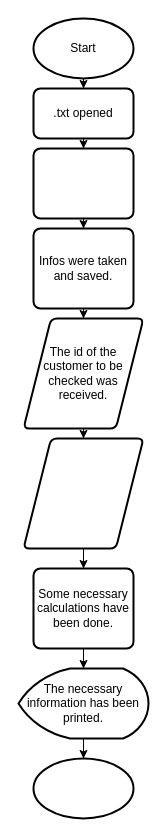
The diagram is 166 pixels wide and 836 high, and some of its shapes have lost their labels. The shapes that lost their labels are listed below. From the top down, each one's centre as x and y in pixels, then its label:
At point 83,183: "Lines were counted for each info type.".
At point 83,493: "The id of the line to be checked was received.".
At point 83,788: "End".
